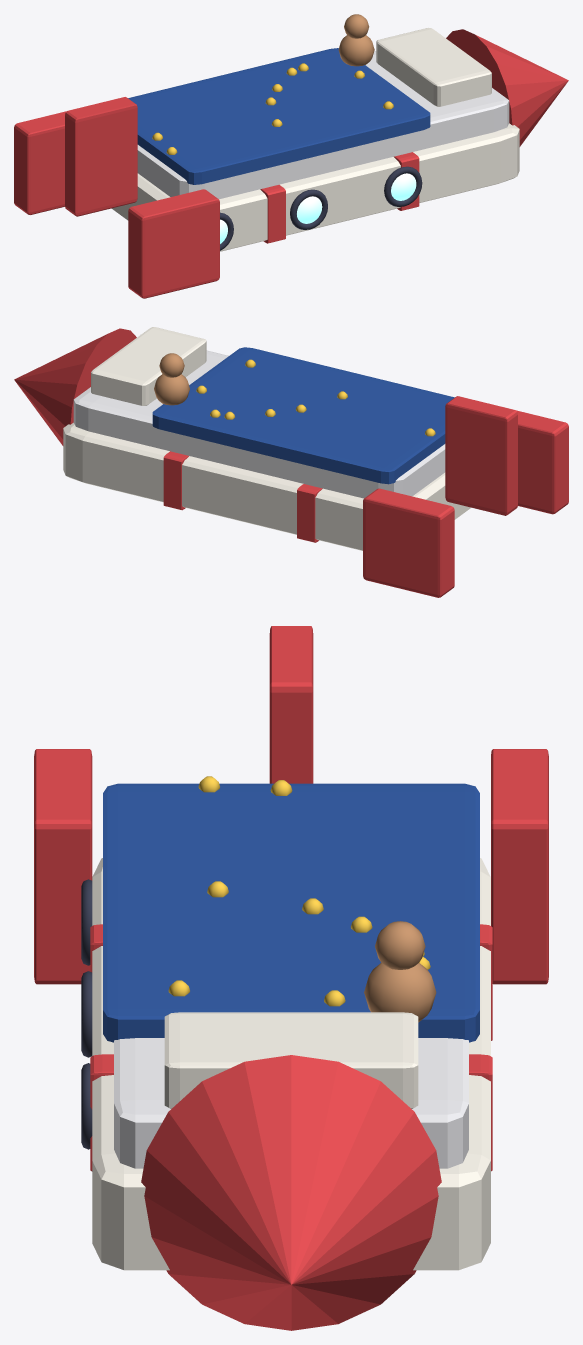
File: rocketbed.glb
3 views of the same model, one above another, from view 1: azimuth 30°, elevation 25°; view 2: azimuth 150°, elevation 25°; view 3: azimuth 270°, elevation 25° (orthographic). The views are drawn at different scales.
Visible parts, largest first — view 1: rocketbed; view 2: rocketbed; view 3: rocketbed.
Boxes of the visible parts, bbox=[...] form: rocketbed: bbox=[14, 14, 568, 298]; rocketbed: bbox=[14, 327, 568, 597]; rocketbed: bbox=[34, 626, 548, 1330].
Bounding box in the file's own units: 3.18 × 0.9699 × 1.42.
2 materials, 2 textured.
